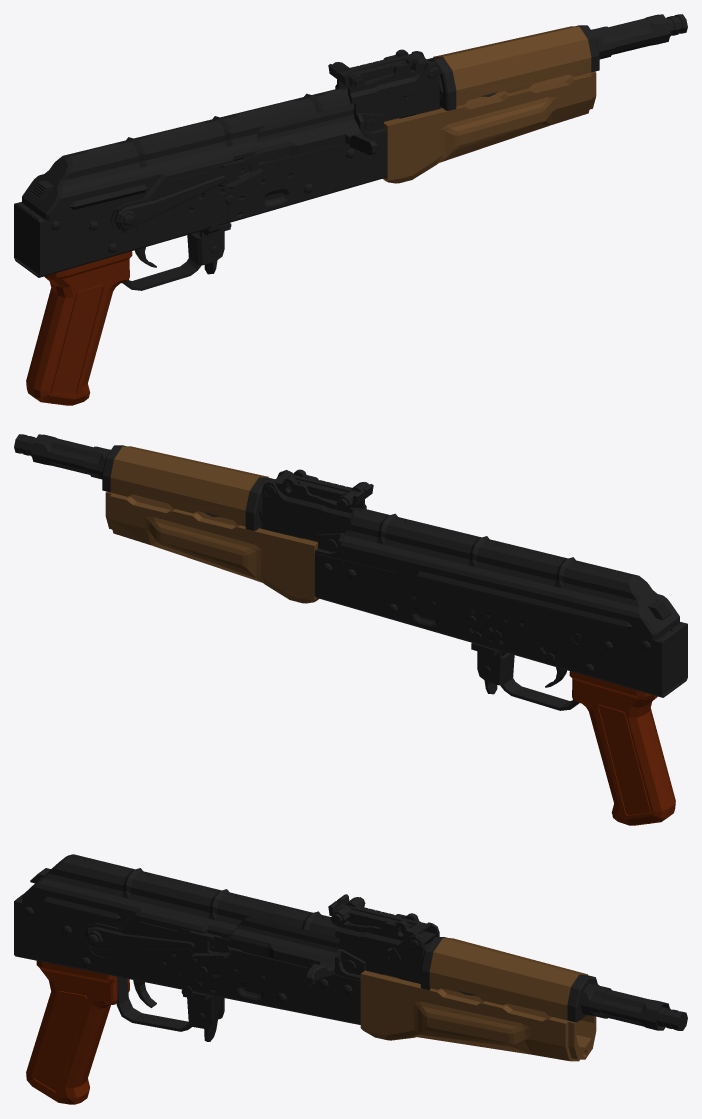
Rendered from akms.glb.
The picture shows the model from 3 angles, top to bottom: view 1: azimuth 30°, elevation 25°; view 2: azimuth 150°, elevation 25°; view 3: azimuth 330°, elevation 25°; orthographic projection.
Parts seen in each view (by area): view 1: akms receiver_16, akms handguard_5, akms dust cover_6, akms grip_2, akms bolt_7, akms selector_1; view 2: akms receiver_16, akms dust cover_6, akms handguard_5, akms grip_2; view 3: akms receiver_16, akms handguard_5, akms dust cover_6, akms grip_2, akms bolt_7, akms selector_1, akms mag release_4.
Boxes of the visible parts, x1,y1,x2,y2 form: akms receiver_16: (14, 14, 670, 290); akms handguard_5: (382, 26, 596, 183); akms dust cover_6: (22, 87, 350, 220); akms grip_2: (26, 251, 132, 405); akms bolt_7: (233, 14, 687, 162); akms selector_1: (110, 155, 263, 232); akms receiver_16: (31, 434, 687, 710); akms dust cover_6: (340, 507, 679, 640); akms handguard_5: (105, 446, 319, 603); akms grip_2: (569, 671, 675, 825); akms receiver_16: (14, 868, 669, 1031); akms handguard_5: (360, 938, 596, 1061); akms dust cover_6: (22, 854, 351, 937); akms grip_2: (26, 961, 129, 1104); akms bolt_7: (210, 916, 687, 1030); akms selector_1: (83, 918, 230, 958); akms mag release_4: (198, 996, 221, 1041).
Bounding box in the file's own units: 4.9 × 1.91 × 0.6313.
